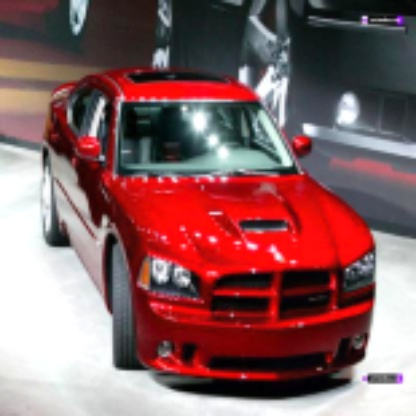Vehicle: (40, 66, 380, 393)
